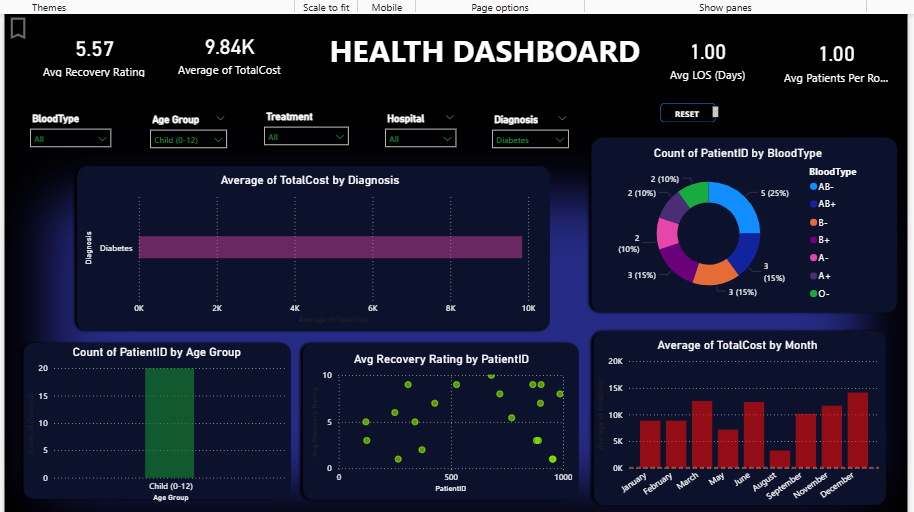

The dashboard page shown, as its layout file describes it:
{"tool":"powerbi","page":{"name":"DASHBOARD","canvas":[1280,720],"ordinal":21},"visuals":[{"type":"card","fields":{"Values":["MergedTable.Avg LOS (Days)"]},"box":[920,21,155,81],"z":0},{"type":"card","fields":{"Values":["MergedTable.Avg Patients Per Room"]},"box":[1097,22,165,85],"z":1000},{"type":"card","fields":{"Values":["MergedTable.Avg Recovery Rating"]},"box":[47.3,20.9,161.8,72.7],"z":2000},{"type":"card","fields":{"Values":["Avg(MergedTable.TotalCost)"]},"box":[216.4,17.3,205.5,76.4],"z":3000},{"type":"barChart","fields":{"Category":["MergedTable.Diagnosis"],"Y":["Avg(MergedTable.TotalCost)"]},"box":[109.1,225.5,649.1,218.2],"z":4000},{"type":"columnChart","fields":{"Category":["MergedTable.Age Group"],"Y":["CountNonNull(MergedTable.PatientID)"]},"box":[26.5,468.9,379.5,227.1],"z":5000},{"type":"donutChart","fields":{"Category":["MergedTable.BloodType"],"Y":["CountNonNull(MergedTable.PatientID)"]},"box":[850,187.3,380,229.1],"z":6000},{"type":"scatterChart","fields":{"Y":["MergedTable.Avg Recovery Rating"],"X":["MergedTable.PatientID"]},"box":[429,479,381,204],"z":7000},{"type":"clusteredColumnChart","fields":{"Category":["MergedTable.AdmissionDate.Variation.Date Hierarchy.Month"],"Y":["Avg(MergedTable.TotalCost)"]},"box":[835,459,410,261],"z":8000},{"type":"slicer","fields":{"Values":["MergedTable.Age Group"]},"box":[197.3,135.5,129.1,64.5],"z":9000},{"type":"slicer","fields":{"Values":["MergedTable.BloodType"]},"box":[27,135,135,67],"z":10000},{"type":"slicer","fields":{"Values":["MergedTable.Diagnosis"]},"box":[681.3,135.7,128.8,60],"z":11000},{"type":"slicer","fields":{"Values":["MergedTable.Hospital"]},"box":[529.9,134.7,120.9,60],"z":12000},{"type":"slicer","fields":{"Values":["MergedTable.Treatment"]},"box":[359.1,131.8,140,66.4],"z":13000},{"type":"textbox","box":[261.2,0,12.5,65],"z":14000},{"type":"textbox","box":[456.7,17.5,463.3,70],"z":15000},{"type":"actionButton","box":[0,0,100,40],"z":17000},{"type":"shape","box":[930,125.8,79.5,27.4],"z":17500},{"type":"textbox","title":"Reset","box":[945.3,125.8,71.6,25.3],"z":18250}]}

Visuals, with their boxes on the page's 1280x720 design canvas (x1, y1, x2, y2). These are canvas units, not pixel positions in the 914x512 screenshot, which may show the page scaled, cropped or inside an application window:
card - MergedTable.Avg LOS (Days): rect(920, 21, 1075, 102)
card - MergedTable.Avg Patients Per Room: rect(1097, 22, 1262, 107)
card - MergedTable.Avg Recovery Rating: rect(47, 21, 209, 94)
card - Avg(MergedTable.TotalCost): rect(216, 17, 422, 94)
barChart - MergedTable.Diagnosis x Avg(MergedTable.TotalCost): rect(109, 226, 758, 444)
columnChart - MergedTable.Age Group x CountNonNull(MergedTable.PatientID): rect(26, 469, 406, 696)
donutChart - MergedTable.BloodType x CountNonNull(MergedTable.PatientID): rect(850, 187, 1230, 416)
scatterChart - MergedTable.Avg Recovery Rating x MergedTable.PatientID: rect(429, 479, 810, 683)
clusteredColumnChart - MergedTable.AdmissionDate.Variation.Date Hierarchy.Month x Avg(MergedTable.TotalCost): rect(835, 459, 1245, 720)
slicer - MergedTable.Age Group: rect(197, 136, 326, 200)
slicer - MergedTable.BloodType: rect(27, 135, 162, 202)
slicer - MergedTable.Diagnosis: rect(681, 136, 810, 196)
slicer - MergedTable.Hospital: rect(530, 135, 651, 195)
slicer - MergedTable.Treatment: rect(359, 132, 499, 198)
textbox: rect(261, 0, 274, 65)
textbox: rect(457, 18, 920, 88)
actionButton: rect(0, 0, 100, 40)
shape: rect(930, 126, 1010, 153)
"Reset" textbox: rect(945, 126, 1017, 151)
